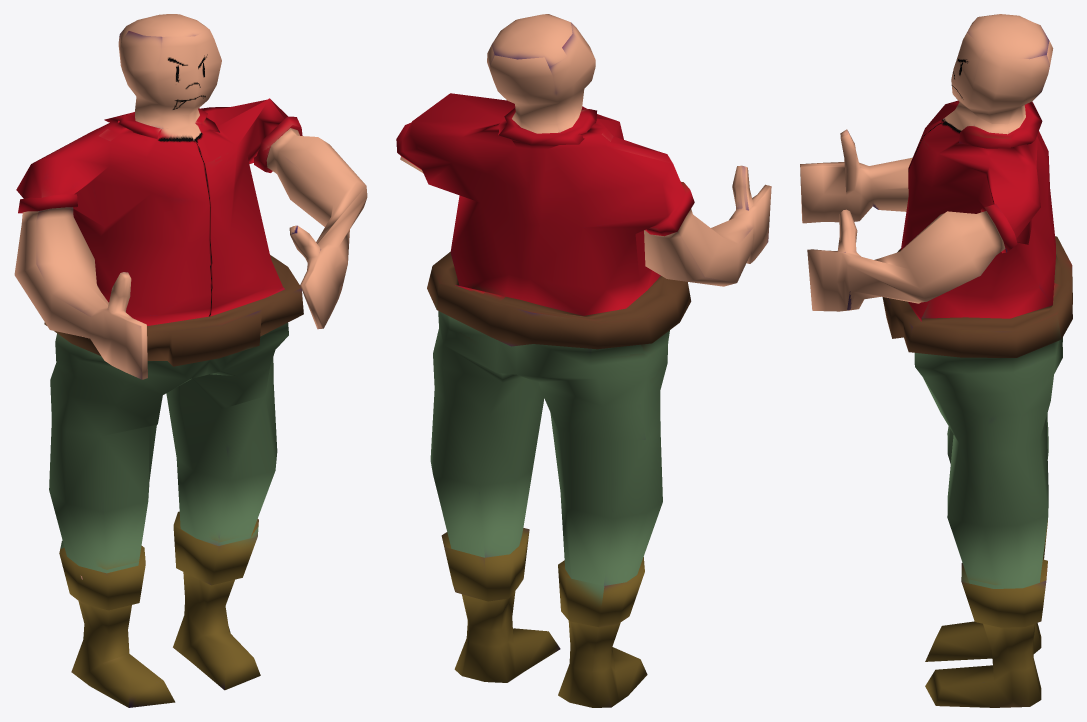
File: idle_2.obj
3 renders of one model, left to right at view 1: azimuth 30°, elevation 25°; view 2: azimuth 150°, elevation 25°; view 3: azimuth 270°, elevation 25°, orthographic.
Visible parts, largest first — view 1: Default_Body_Cube; view 2: Default_Body_Cube; view 3: Default_Body_Cube.
Part boxes in pixels (x1,y1,x2,y2): Default_Body_Cube: (14, 14, 367, 707); Default_Body_Cube: (396, 14, 771, 707); Default_Body_Cube: (800, 14, 1072, 707).
Bounding box in the file's own units: 4.01 × 7.85 × 2.96.
